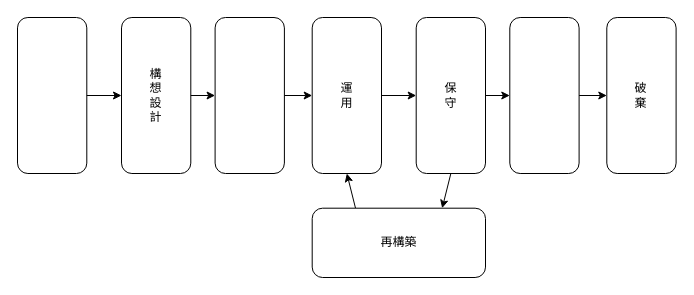
Some shapes in this 694 by 295 pixel diagram are drawn without their labels. Each missing label, with the centre of its shape:
"企 画 構 想" goes at pixel 51 95.
"利 用 停 止" goes at pixel 544 95.
"利 用 開 始" goes at pixel 249 95.
